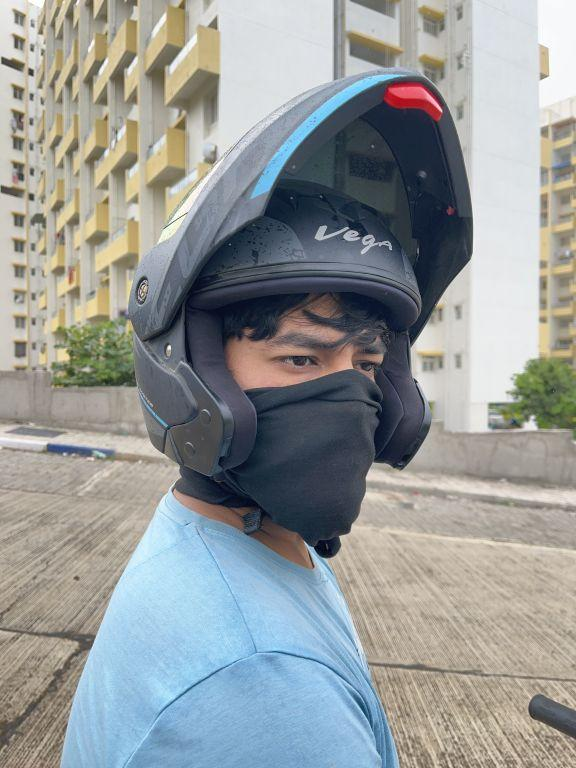helmet: (117, 54, 485, 566)
